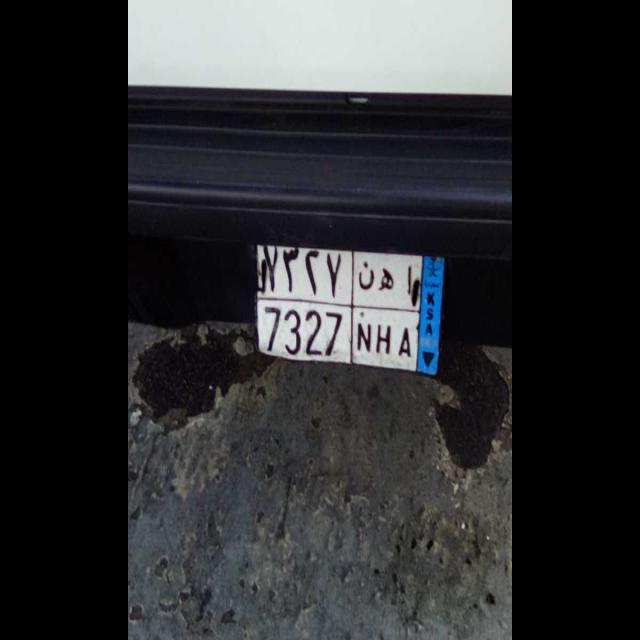license_plate: (254, 299, 417, 371)
